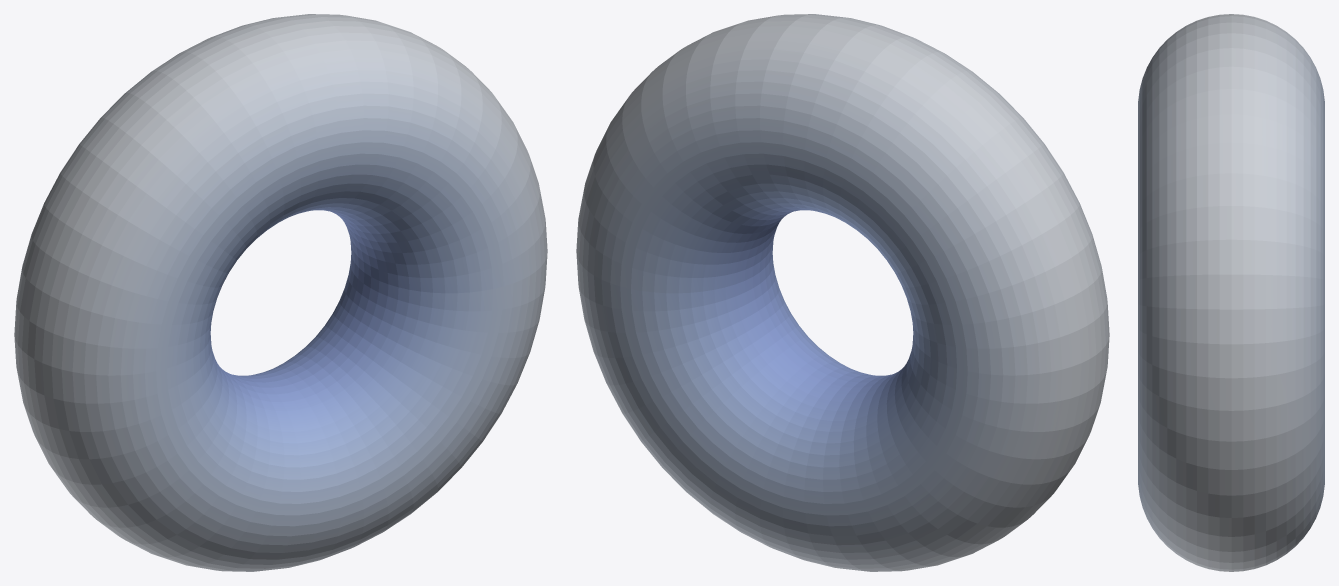
3 views of the same model, side by side, from view 1: azimuth 30°, elevation 25°; view 2: azimuth 150°, elevation 25°; view 3: azimuth 270°, elevation 25° (orthographic). The views are drawn at different scales.
Parts seen in each view (by area): view 1: world; view 2: world; view 3: world.
Boxes of the visible parts, <box> form: world: <box>14,14,547,571</box>; world: <box>576,14,1109,571</box>; world: <box>1138,14,1324,571</box>.
Size of the model in its own units: 21.07 by 21.03 by 7.05.
